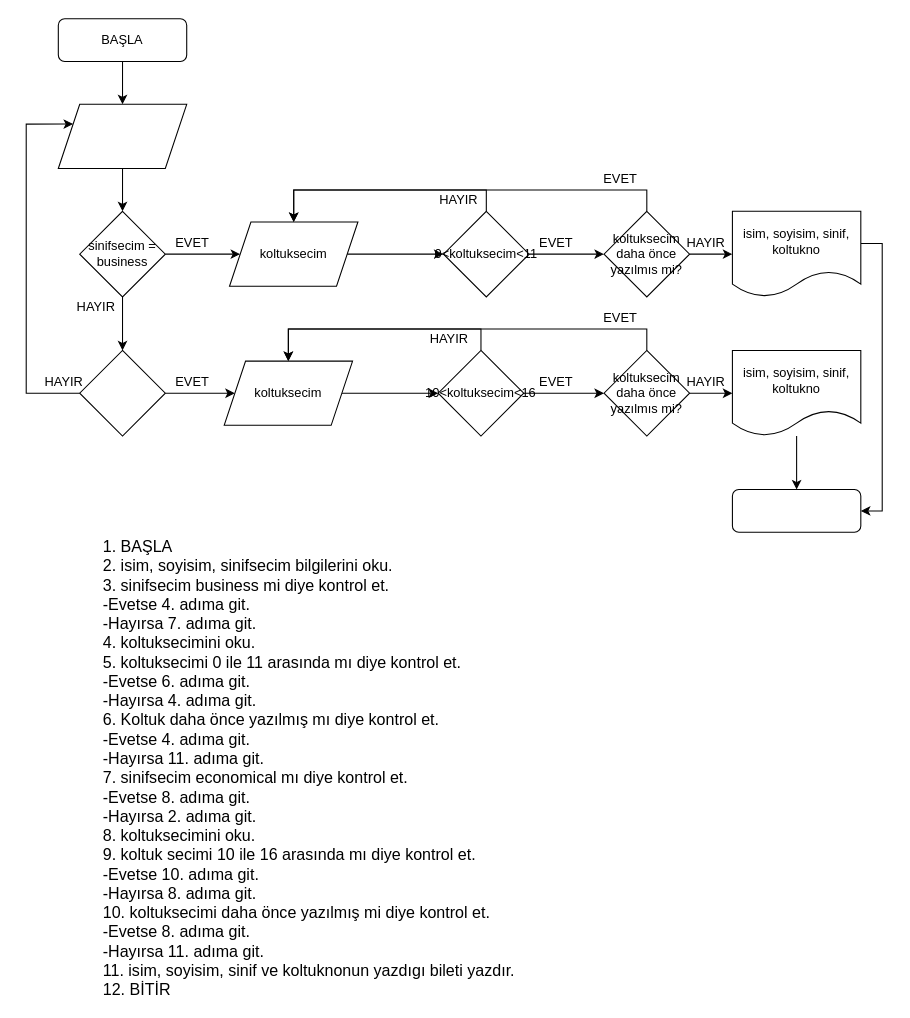
This 910x1018 diagram has some shape labels left out. Here are the shapes that lost their labels. From the top down, the box of each, then its label:
(57, 103, 187, 169): isim, soyisim, sinifsecim
(79, 349, 165, 436): sinifsecim = economical
(731, 488, 861, 532): BİTİR
